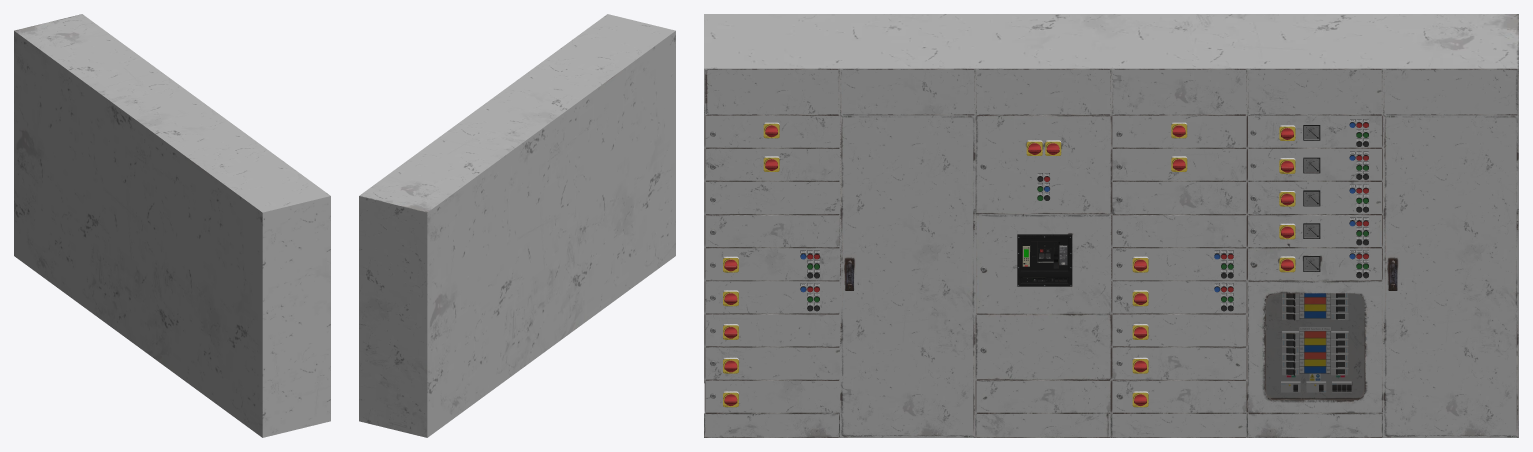
Rendered from cabinet.glb.
3 views of the same model, side by side, from view 1: azimuth 30°, elevation 25°; view 2: azimuth 150°, elevation 25°; view 3: azimuth 270°, elevation 25° (orthographic). The views are drawn at different scales.
Visible parts, largest first — view 1: BPanel; view 2: BPanel; view 3: BPanel.
Boxes of the visible parts, x1,y1,x2,y2 form: BPanel: (14, 14, 330, 437); BPanel: (359, 14, 675, 437); BPanel: (704, 14, 1518, 437).
Size of the model in its own units: 1.02 by 3 by 6.
3 materials, 3 textured.
